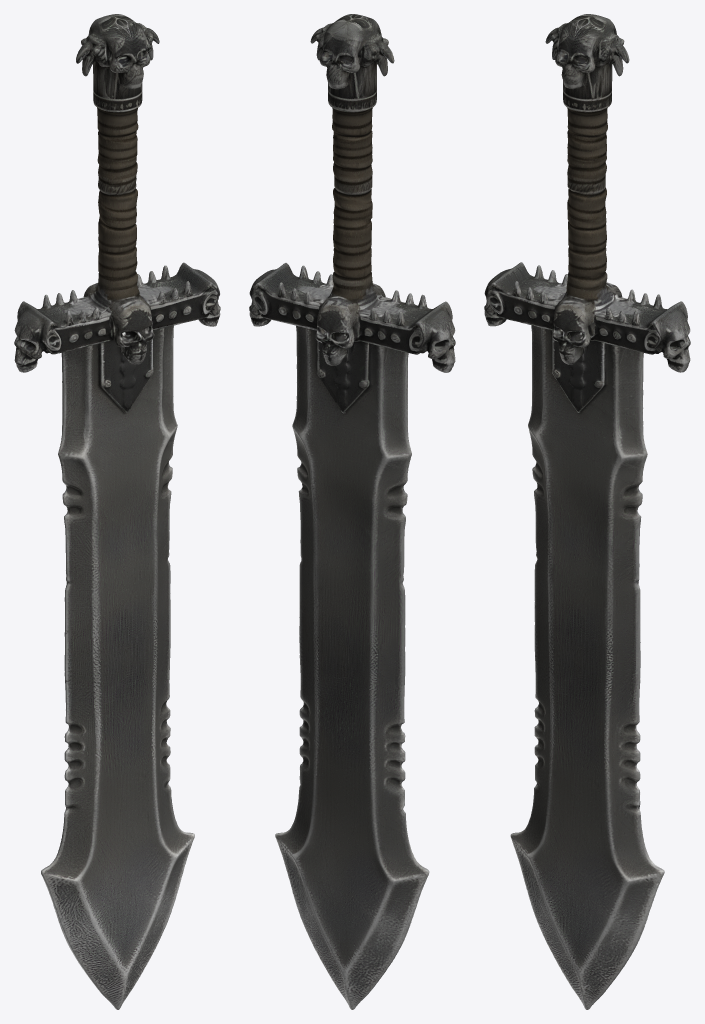
File: Meshy_Model_Import0001.fbx
The picture shows the model from 3 angles, left to right: view 1: azimuth 30°, elevation 25°; view 2: azimuth 150°, elevation 25°; view 3: azimuth 330°, elevation 25°; orthographic projection.
Visible parts, largest first — view 1: Mesh_0; view 2: Mesh_0; view 3: Mesh_0.
Boxes of the visible parts, x1,y1,x2,y2 form: Mesh_0: [14, 14, 220, 1009]; Mesh_0: [249, 14, 455, 1009]; Mesh_0: [484, 14, 690, 1009].
Bounding box in the file's own units: 40.79 × 190 × 16.69.
1 material, 1 textured.
